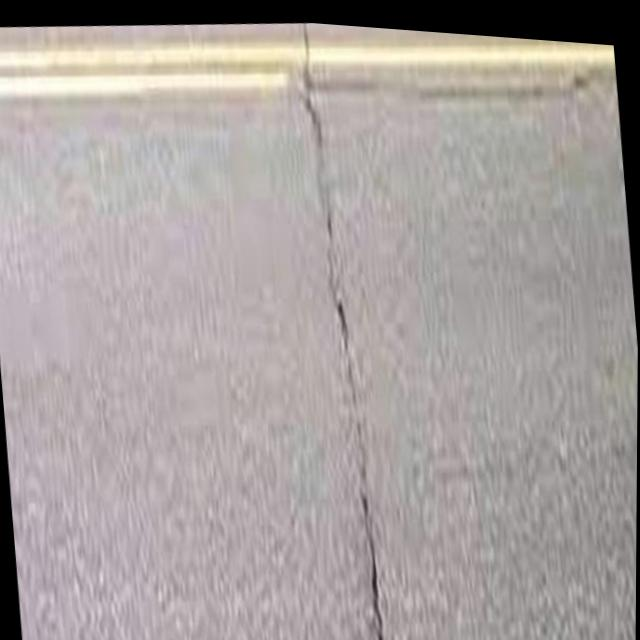Crack: (255, 15, 433, 640)
